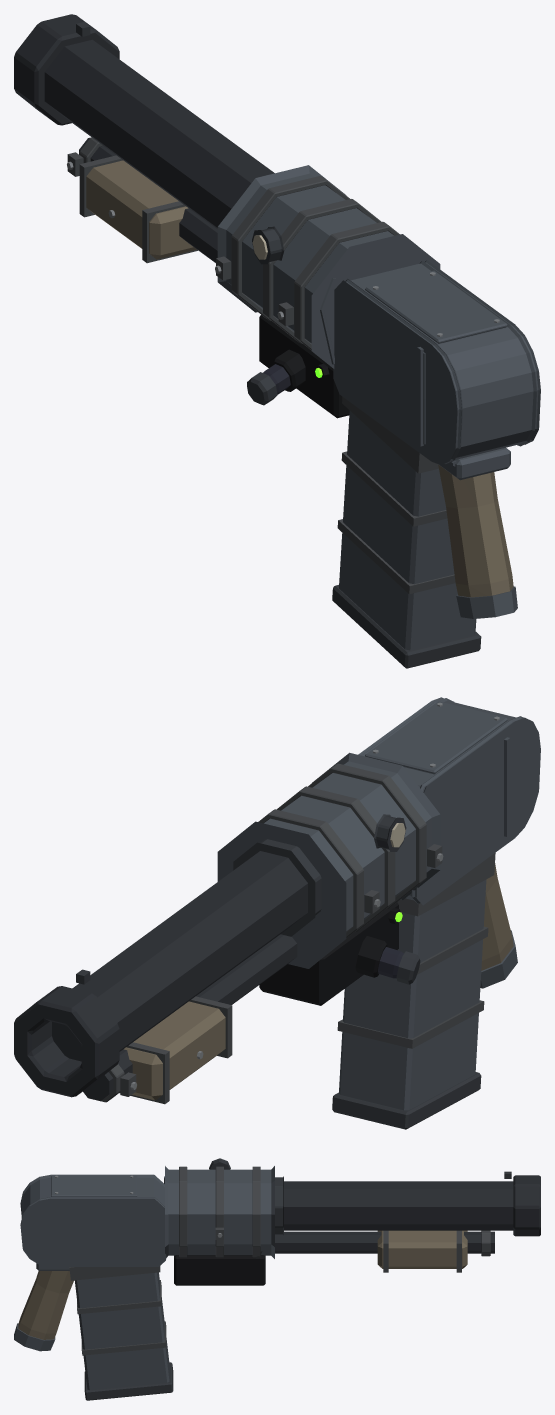
Rendered from bulkhead_b.glb.
3 views of the same model, one above another, from view 1: azimuth 30°, elevation 25°; view 2: azimuth 150°, elevation 25°; view 3: azimuth 270°, elevation 25° (orthographic). The views are drawn at different scales.
Parts seen in each view (by area): view 1: Body, Feed, Pump; view 2: Body, Feed, Pump; view 3: Body, Feed, Pump.
Part boxes in pixels (x1,y1,x2,y2): Body: (14,14,540,618); Feed: (332,396,481,668); Pump: (79,155,197,263); Body: (14,697,540,1102); Feed: (332,853,495,1129); Pump: (119,996,232,1104); Body: (14,1158,540,1351); Feed: (69,1266,173,1400); Pump: (377,1230,467,1272).
Size of the model in its own units: 0.1213 by 0.262 by 0.5745.
